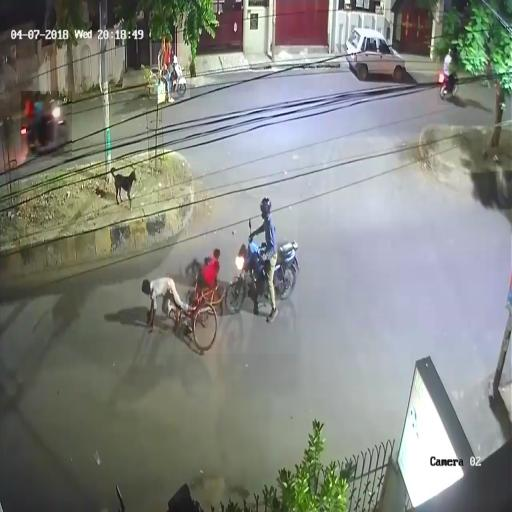小汽车: (346, 25, 405, 80)
自行车: (21, 92, 72, 158), (150, 43, 190, 99), (437, 48, 459, 105)
自行车撞自行车: (140, 199, 298, 354)
